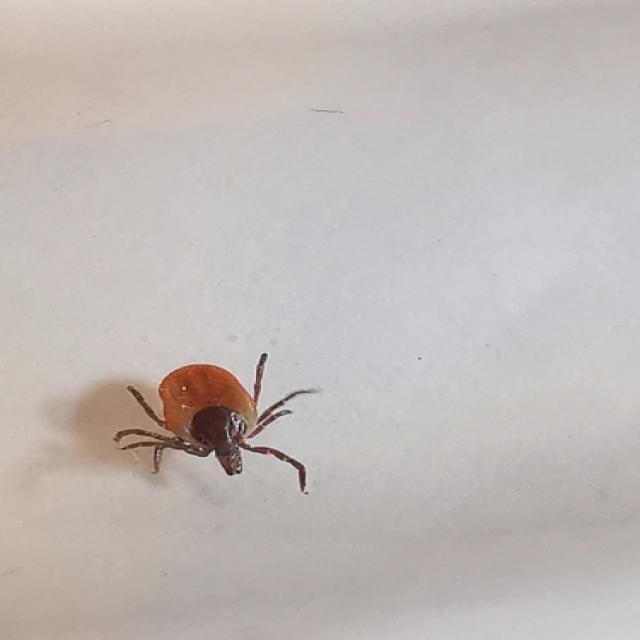Ixodes Ricinus-F: (111, 356, 316, 494)
